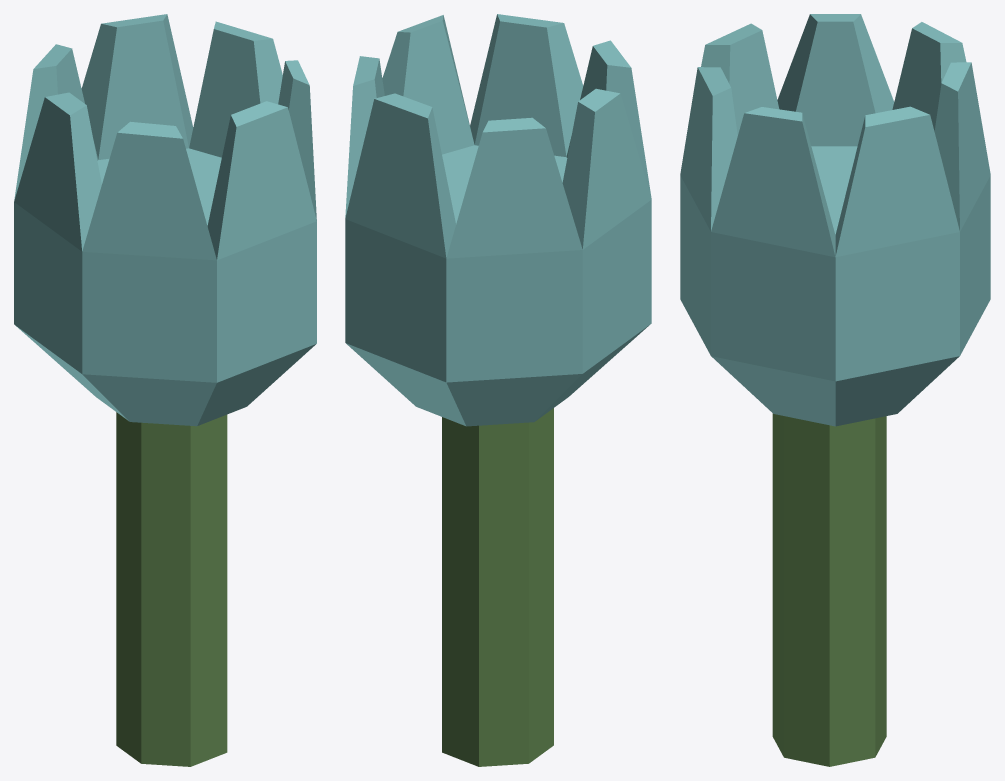
Rendered from blauwetulp.fbx.
3 renders of one model, left to right at view 1: azimuth 30°, elevation 25°; view 2: azimuth 150°, elevation 25°; view 3: azimuth 270°, elevation 25°, orthographic.
Visible parts, largest first — view 1: blauwe_tulp; view 2: blauwe_tulp; view 3: blauwe_tulp.
Part boxes in pixels (x1,y1,x2,y2): blauwe_tulp: [14, 14, 316, 766]; blauwe_tulp: [345, 14, 651, 766]; blauwe_tulp: [680, 14, 990, 766].
Bounding box in the file's own units: 0.3301 × 0.8195 × 0.3386.
